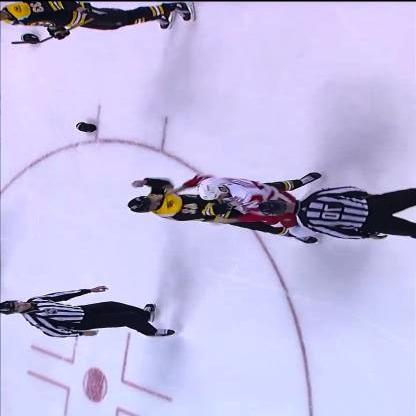non-Voilence: (1, 281, 178, 342), (0, 1, 198, 36)
voilence: (128, 170, 324, 245)
